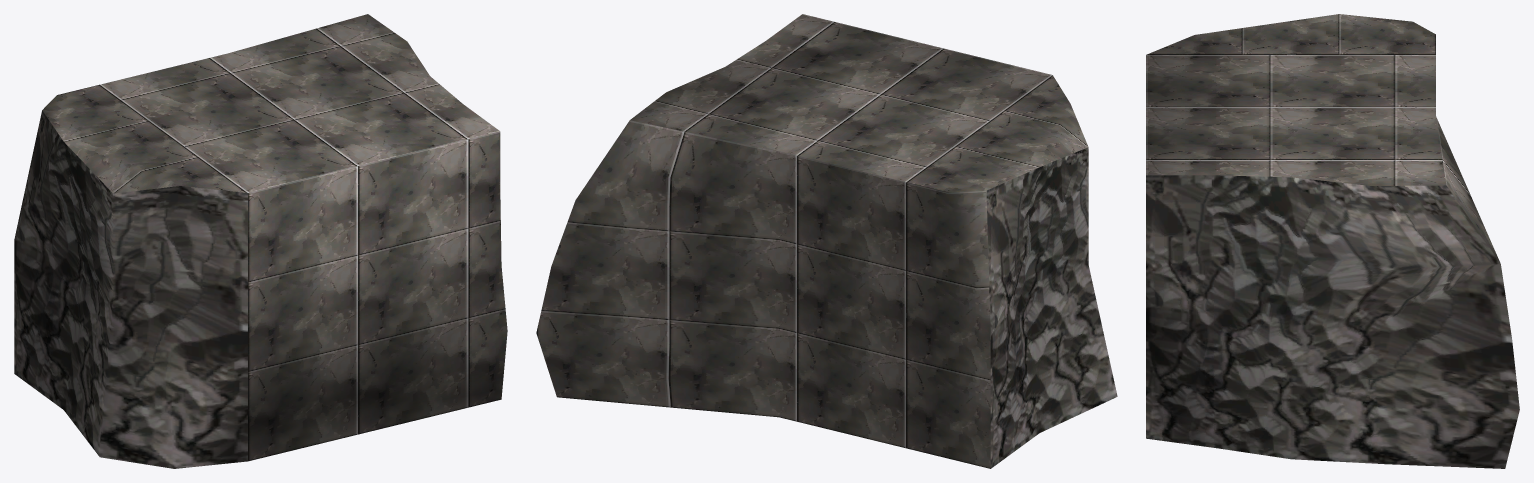
Rendered from INST_SM_DEBRIS_BLOCK_MEDIUMB.fbx.
3 views of the same model, side by side, from view 1: azimuth 30°, elevation 25°; view 2: azimuth 150°, elevation 25°; view 3: azimuth 270°, elevation 25° (orthographic). The views are drawn at different scales.
Visible parts, largest first — view 1: INST_SM_DEBRIS_BLOCK_MEDIUMB; view 2: INST_SM_DEBRIS_BLOCK_MEDIUMB; view 3: INST_SM_DEBRIS_BLOCK_MEDIUMB.
Boxes of the visible parts, left/top/right/bottom form: INST_SM_DEBRIS_BLOCK_MEDIUMB: left=14, top=14, right=507, bottom=468; INST_SM_DEBRIS_BLOCK_MEDIUMB: left=536, top=14, right=1117, bottom=468; INST_SM_DEBRIS_BLOCK_MEDIUMB: left=1146, top=14, right=1519, bottom=468.
Bounding box in the file's own units: 51137 × 30000 × 38679.
Materials: 2 (2 with a texture image).
